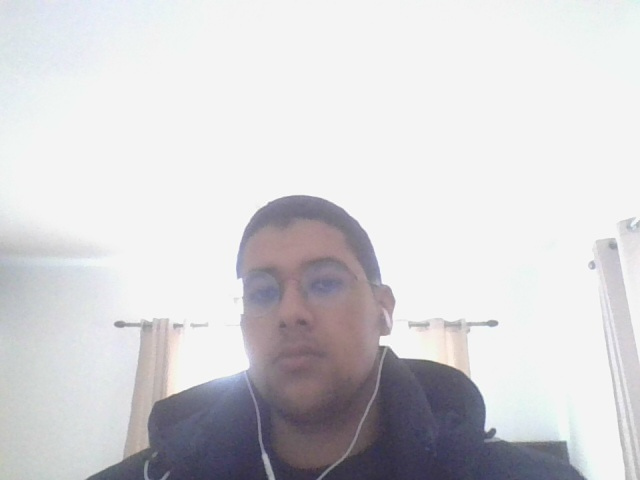real: (224, 174, 399, 422)
